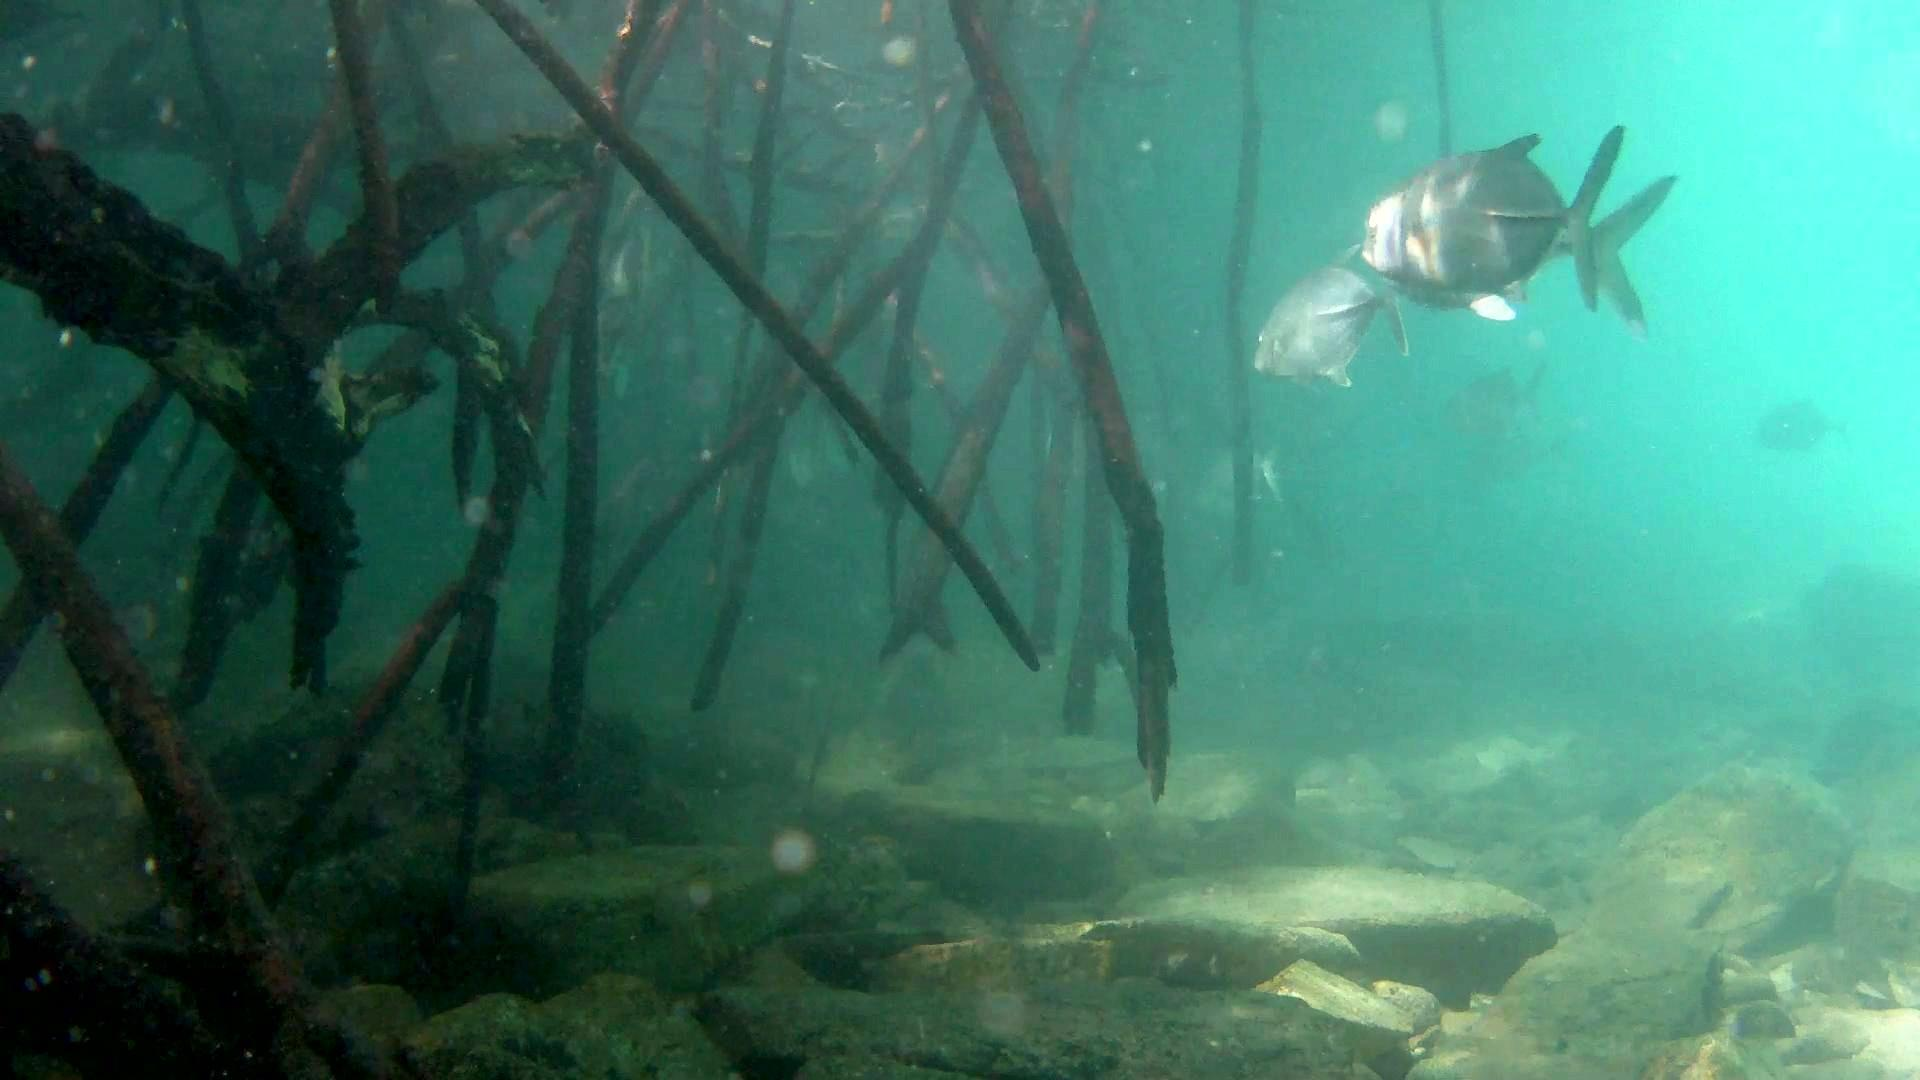caranx: (1346, 116, 1634, 322)
